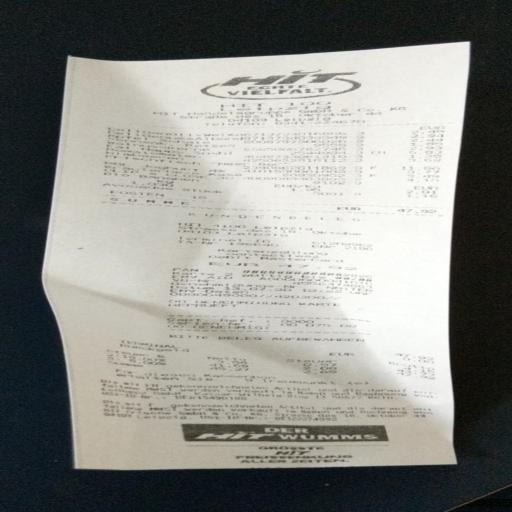paper: (7, 19, 489, 512)
